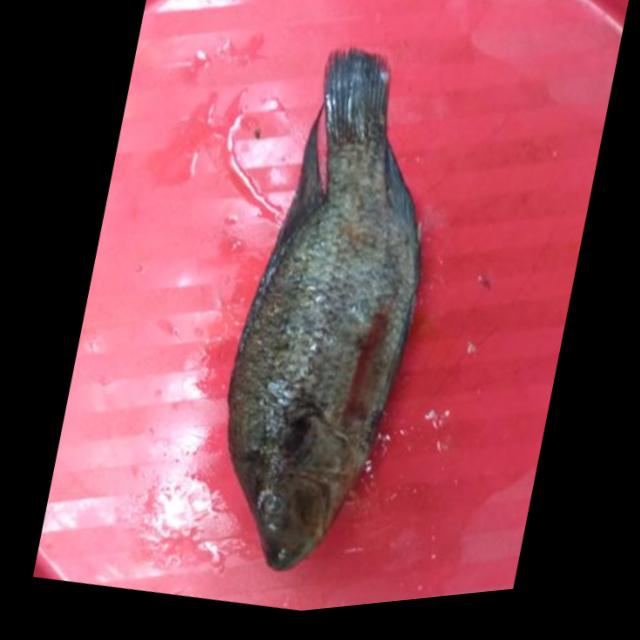Tilapia: (176, 27, 480, 598)
